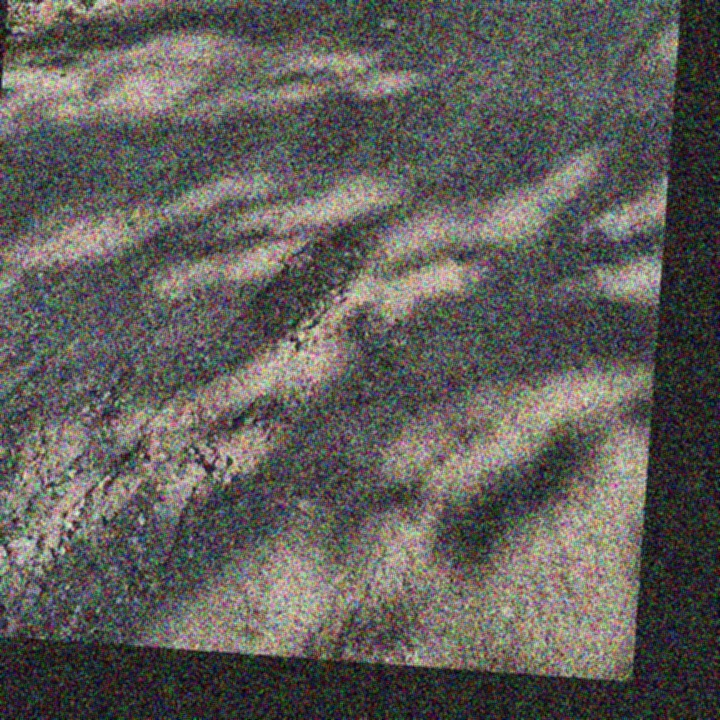pothole: (245, 223, 383, 358)
